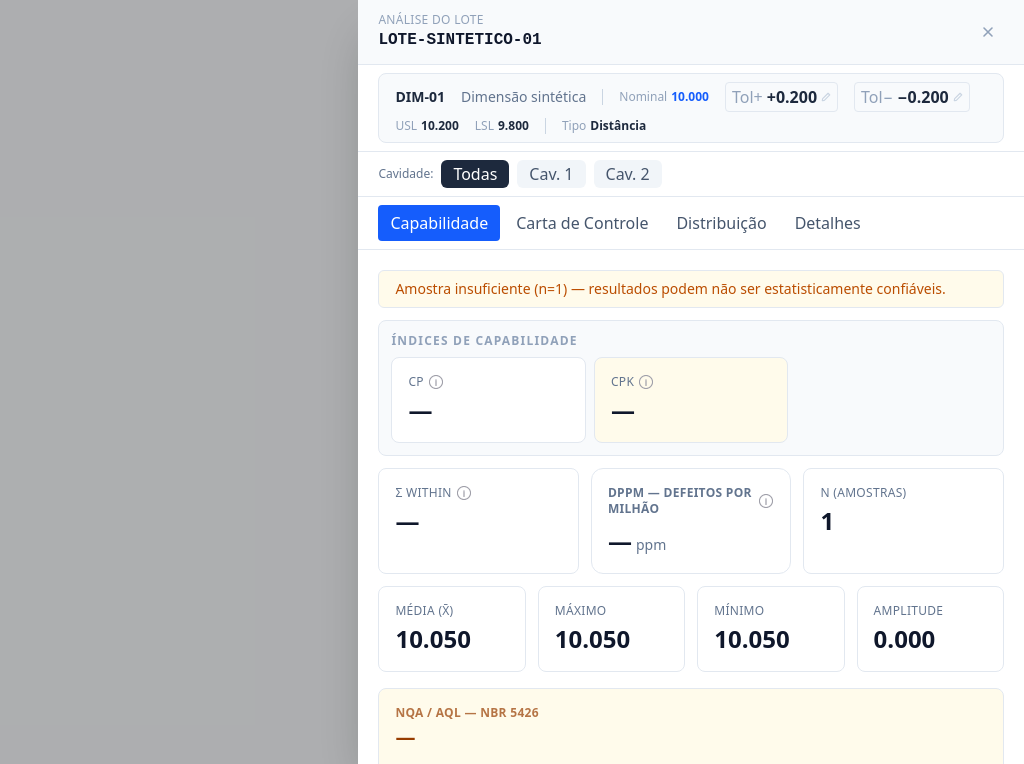
Scenario: BatchDetailSlideOver › mantém a coluna de relatórios quando a lista do lote está vazia
Click the button "Detalhes" at (828, 223), box [783,205,873,241]
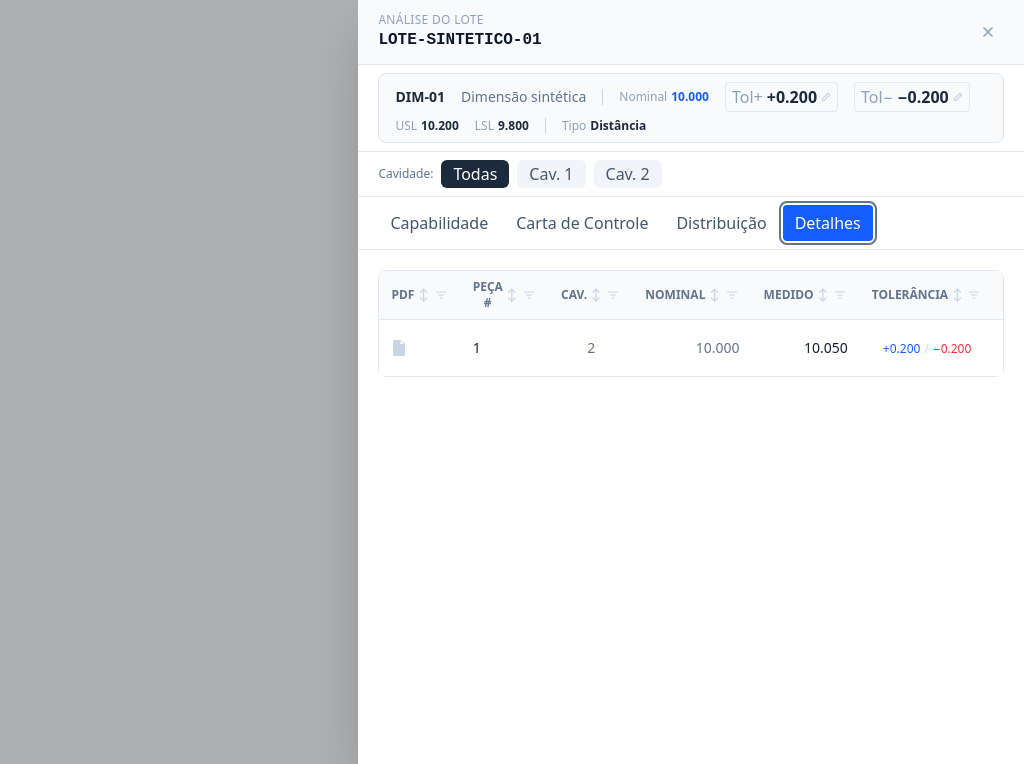
Now the element titled "Relatório não disponível" is shown, box [391,340,407,356]
Now the column heading "PDF ↕" is shown, box [379,271,461,320]
